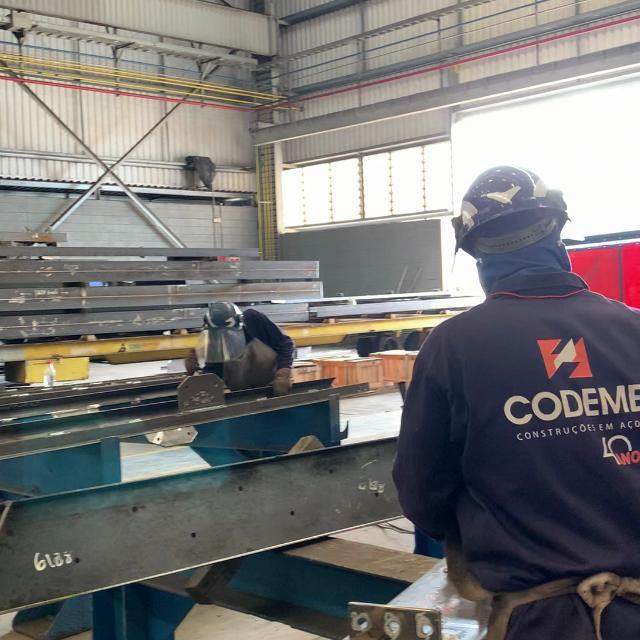eye-glass: (196, 329, 248, 365)
face-shield: (271, 368, 294, 398)
glove: (458, 166, 568, 257), (204, 298, 242, 327)
mask: (391, 166, 638, 636), (187, 299, 296, 398)
